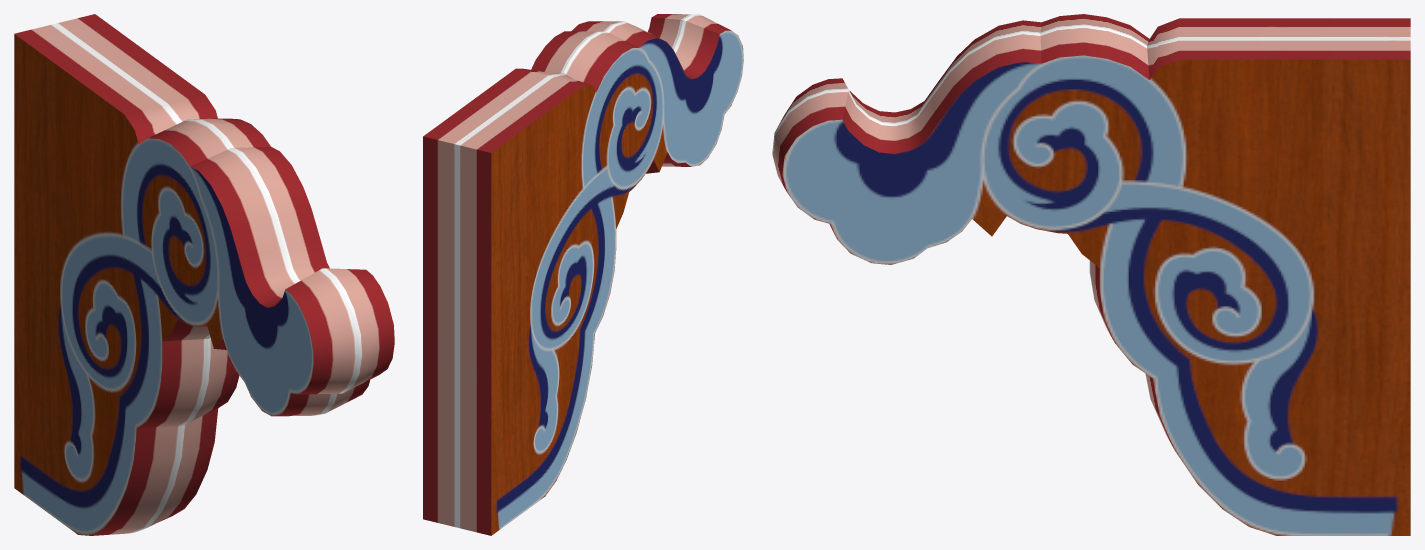
Rendered from SM_Gongpo04P.fbx.
3 renders of one model, left to right at view 1: azimuth 30°, elevation 25°; view 2: azimuth 150°, elevation 25°; view 3: azimuth 270°, elevation 25°, orthographic. The views are drawn at different scales.
Parts seen in each view (by area): view 1: SM_Gongpo04P; view 2: SM_Gongpo04P; view 3: SM_Gongpo04P.
Part boxes in pixels (<box>): SM_Gongpo04P: <box>14,14,394,535</box>; SM_Gongpo04P: <box>423,14,743,535</box>; SM_Gongpo04P: <box>772,14,1410,535</box>.
Bounding box in the file's own units: 6.75 × 43.95 × 37.2.
